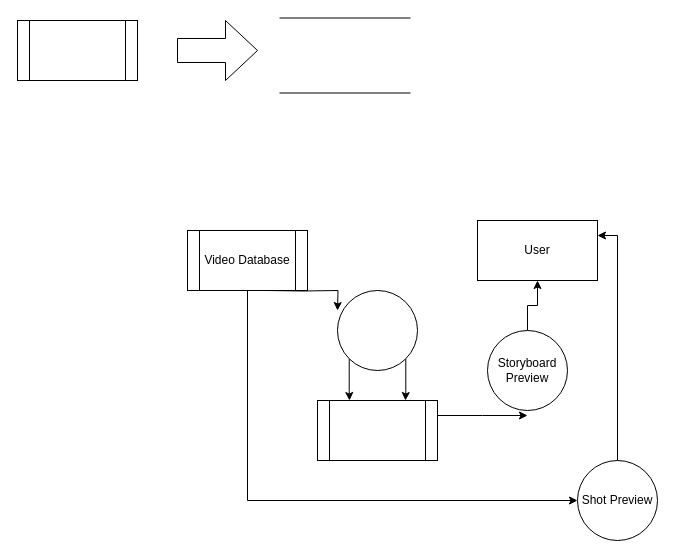
Image size: 675x558. Some labels were removed from this diagram. The shapes that lost their labels are listed below. From the top down, each one's box as (x1, y1, x2, y2) in pixels, then its label:
(336, 290, 418, 370): Shot Boundary Direction
(316, 400, 438, 460): Annotation Database
